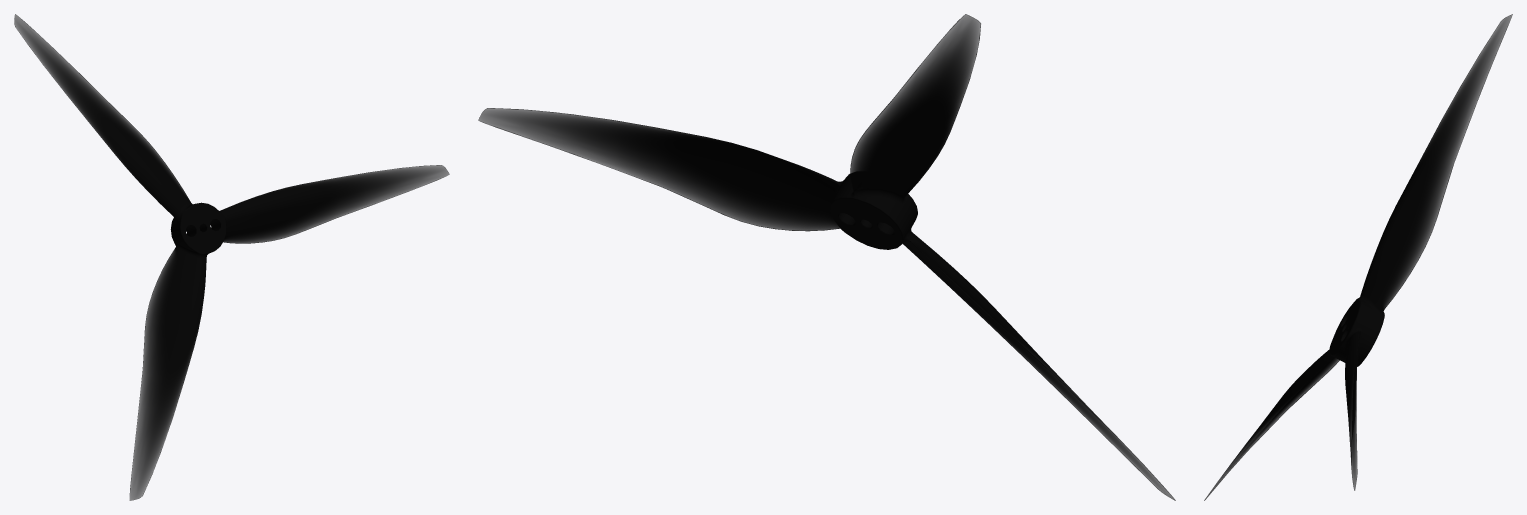
Rendered from 4_tri-blade_propeller-2.glb.
3 views of the same model, side by side, from view 1: azimuth 30°, elevation 25°; view 2: azimuth 150°, elevation 25°; view 3: azimuth 270°, elevation 25° (orthographic). The views are drawn at different scales.
Visible parts, largest first — view 1: Prop4in; view 2: Prop4in; view 3: Prop4in.
Part boxes in pixels (x1,y1,x2,y2): Prop4in: [14, 14, 449, 500]; Prop4in: [478, 14, 1175, 500]; Prop4in: [1204, 14, 1512, 500].
Size of the model in its own units: 0.0776 by 0.0771 by 0.0441.
1 material, 1 textured.
